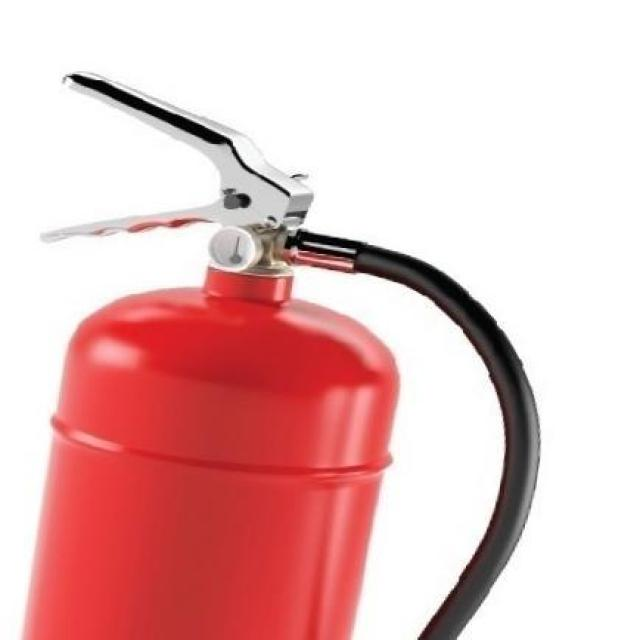fire_extinguisher: (8, 66, 548, 638)
